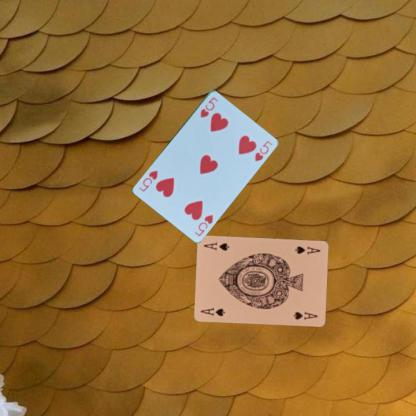5h: (192, 211, 214, 237), (198, 94, 220, 119)
As: (198, 305, 227, 317), (293, 244, 321, 256)
